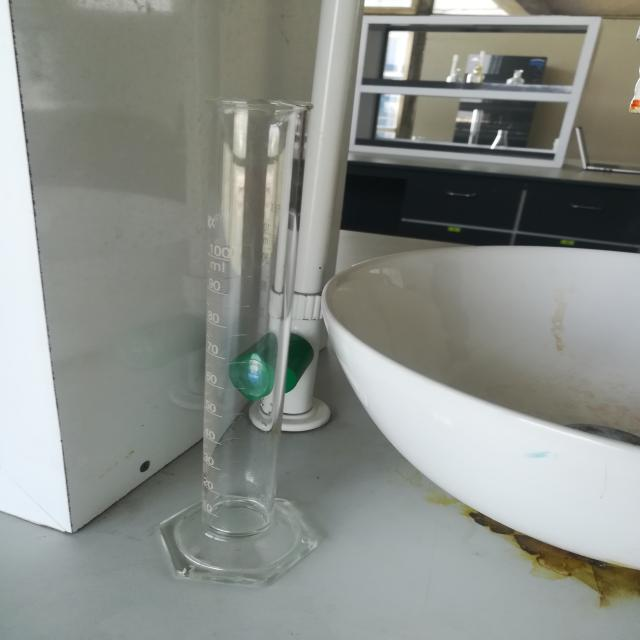Round_Bottom_Flask_Borosilicate_Glass_2_Neck: (145, 68, 342, 614)
